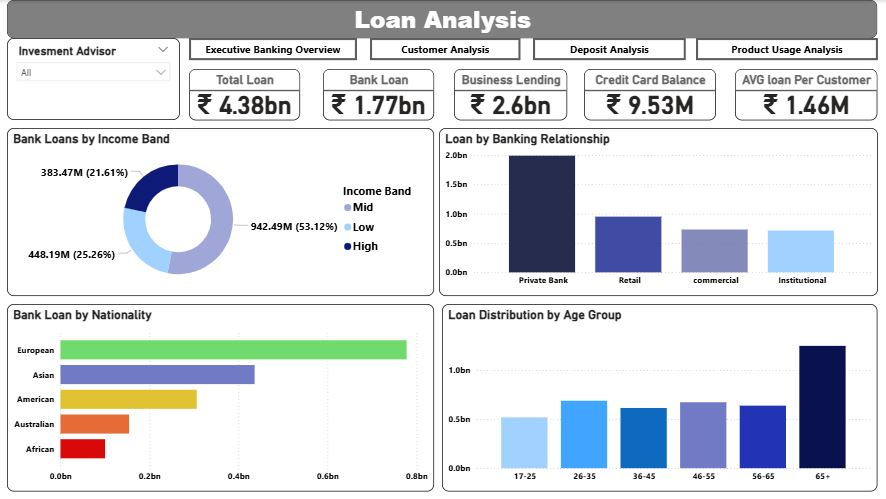

What the dashboard file says about the page in this screenshot:
{"tool":"powerbi","page":{"name":"Loan Analysis","canvas":[1280,720],"ordinal":2},"visuals":[{"type":"textbox","title":"Loan Analysis","box":[13.4,0,1253.1,55.4],"z":0},{"type":"card","title":"Total Loan","fields":{"Values":["Banking.Total loan"]},"box":[275.5,99.1,159.6,73.9],"z":0,"group":"g1"},{"type":"card","title":"Bank Loan","fields":{"Values":["Banking.Bank Loan"]},"box":[468.7,99.1,159.6,73.9],"z":1000,"group":"g1"},{"type":"donutChart","title":" Bank Loans by Income Band","fields":{"Category":["Banking.Income Band"],"Y":["Banking.Bank Loan"]},"box":[13.4,184.8,614.8,241.9],"z":1000},{"type":"card","title":"Business Lending","fields":{"Values":["Banking.Total Business Lending"]},"box":[656.8,99.1,162.9,73.9],"z":2000,"group":"g1"},{"type":"clusteredBarChart","title":"Bank Loan by Nationality","fields":{"Category":["Banking.Nationality"],"Y":["Banking.Bank Loan"]},"box":[13.4,438.4,614.8,270.4],"z":2000},{"type":"slicer","fields":{"Values":["Investment Advisor.Invesment Advisor"]},"box":[13.4,55.4,248.6,117.6],"z":3000},{"type":"card","title":"Credit Card Balance","fields":{"Values":["Banking.Credit Card Balance Amt"]},"box":[844.9,99.1,189.8,73.9],"z":3000,"group":"g1"},{"type":"clusteredColumnChart","title":"Loan by Banking Relationship","fields":{"Y":["Banking.Total loan"],"Category":["Banking Relationship.Banking Relationship"]},"box":[635,184.8,631.6,241.9],"z":4000},{"type":"clusteredColumnChart","title":"Loan Distribution by Age Group","fields":{"Y":["Banking.Total loan"],"Category":["Banking.Age Groups"]},"box":[640,438.4,626.6,270.4],"z":5000},{"type":"actionButton","box":[771,55.4,220.1,31.9],"z":6000},{"type":"actionButton","box":[1004.5,55.4,262,31.9],"z":7000},{"type":"actionButton","box":[535.9,55.4,216.7,31.9],"z":8000},{"type":"actionButton","box":[275.5,55.4,241.9,31.9],"z":9000},{"type":"group","id":"g1","title":"Group 1","box":[275.5,99.1,991.1,73.9],"z":10000},{"type":"card","title":"AVG loan Per Customer","fields":{"Values":["All Measure.Avg Loan Per customer"]},"box":[1061.6,99.1,204.9,73.9],"z":10000,"group":"g1"}]}

Visuals, with their boxes in screenshot pixels (x1, y1, x2, y2), scaled from the page's 1280x720 canvas onto the 886x499 screenshot:
"Loan Analysis" textbox: <bbox>9, 0, 877, 38</bbox>
"Total Loan" card: <bbox>191, 69, 301, 120</bbox>
"Bank Loan" card: <bbox>324, 69, 435, 120</bbox>
" Bank Loans by Income Band" donutChart: <bbox>9, 128, 435, 296</bbox>
"Business Lending" card: <bbox>455, 69, 567, 120</bbox>
"Bank Loan by Nationality" clusteredBarChart: <bbox>9, 304, 435, 491</bbox>
slicer - Investment Advisor.Invesment Advisor: <bbox>9, 38, 181, 120</bbox>
"Credit Card Balance" card: <bbox>585, 69, 716, 120</bbox>
"Loan by Banking Relationship" clusteredColumnChart: <bbox>440, 128, 877, 296</bbox>
"Loan Distribution by Age Group" clusteredColumnChart: <bbox>443, 304, 877, 491</bbox>
actionButton: <bbox>534, 38, 686, 61</bbox>
actionButton: <bbox>695, 38, 877, 61</bbox>
actionButton: <bbox>371, 38, 521, 61</bbox>
actionButton: <bbox>191, 38, 358, 61</bbox>
"Group 1" group: <bbox>191, 69, 877, 120</bbox>
"AVG loan Per Customer" card: <bbox>735, 69, 877, 120</bbox>
